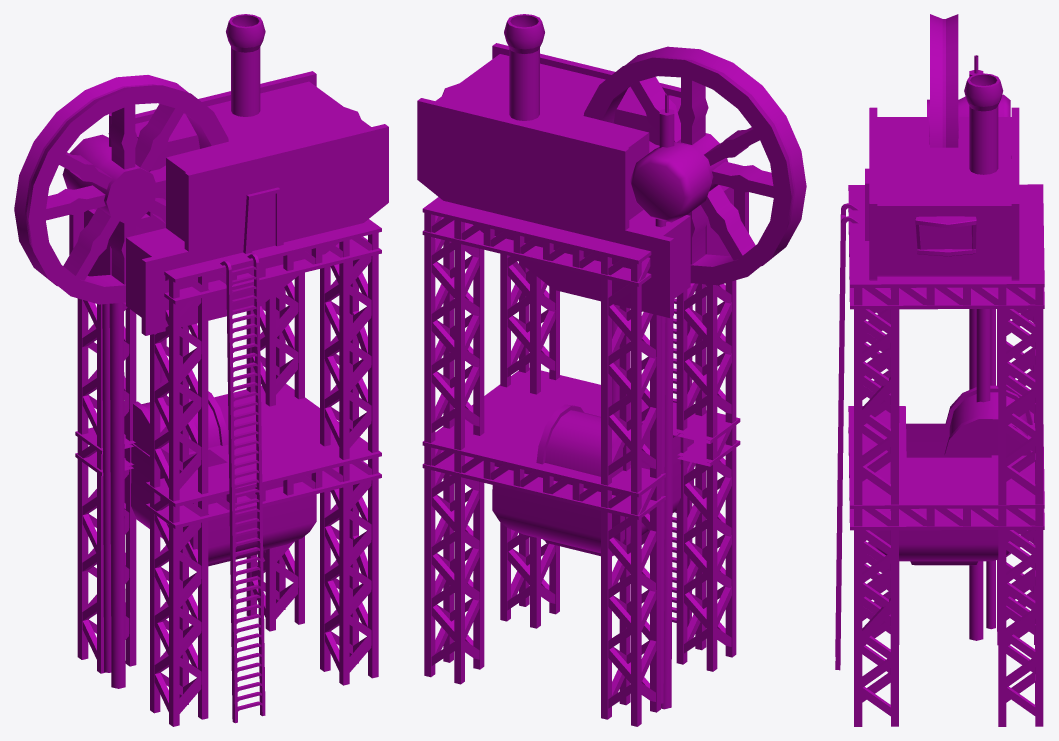
File: Mill.fbx
3 renders of one model, left to right at view 1: azimuth 30°, elevation 25°; view 2: azimuth 150°, elevation 25°; view 3: azimuth 270°, elevation 25°, orthographic. The views are drawn at different scales.
Parts seen in each view (by area): view 1: Mill_Steel; view 2: Mill_Steel; view 3: Mill_Steel, Mill_Window.
Part boxes in pixels (x1,y1,x2,y2): Mill_Steel: (14, 14, 388, 726); Mill_Steel: (417, 14, 806, 726); Mill_Steel: (835, 14, 1044, 726); Mill_Window: (921, 225, 971, 249).
Size of the model in its own units: 13.78 by 24.48 by 7.49.
